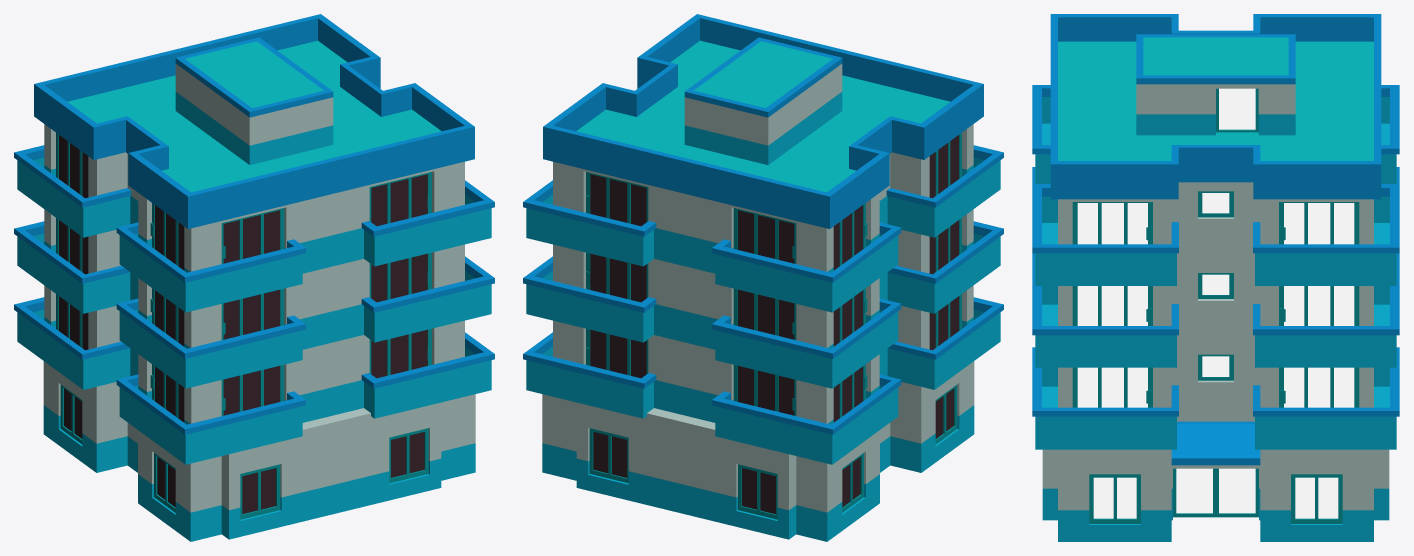
The model's file is edificio3.glb.
3 views of the same model, side by side, from view 1: azimuth 30°, elevation 25°; view 2: azimuth 150°, elevation 25°; view 3: azimuth 270°, elevation 25° (orthographic). The views are drawn at different scales.
Visible parts, largest first — view 1: PublicBuilding_8_Pack3_0.001; view 2: PublicBuilding_8_Pack3_0.001; view 3: PublicBuilding_8_Pack3_0.001.
Boxes of the visible parts, x1=… form: PublicBuilding_8_Pack3_0.001: x1=14, y1=14, x2=494, y2=541; PublicBuilding_8_Pack3_0.001: x1=523, y1=14, x2=1003, y2=541; PublicBuilding_8_Pack3_0.001: x1=1032, y1=14, x2=1399, y2=541.
Size of the model in its own units: 5.73 by 6.72 by 5.48.
2 materials, 1 textured.
